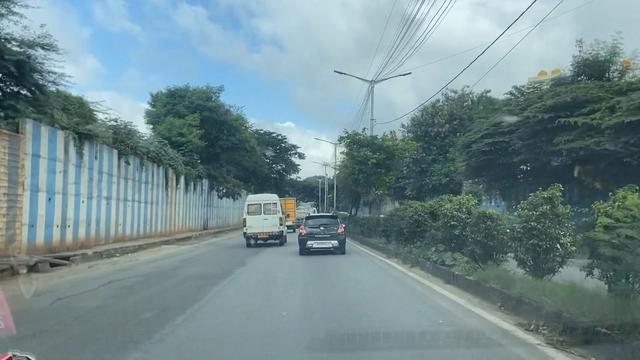HMV: (243, 194, 286, 243)
LMV: (298, 214, 342, 250)
UnsurfacedRoad: (173, 273, 243, 331)
